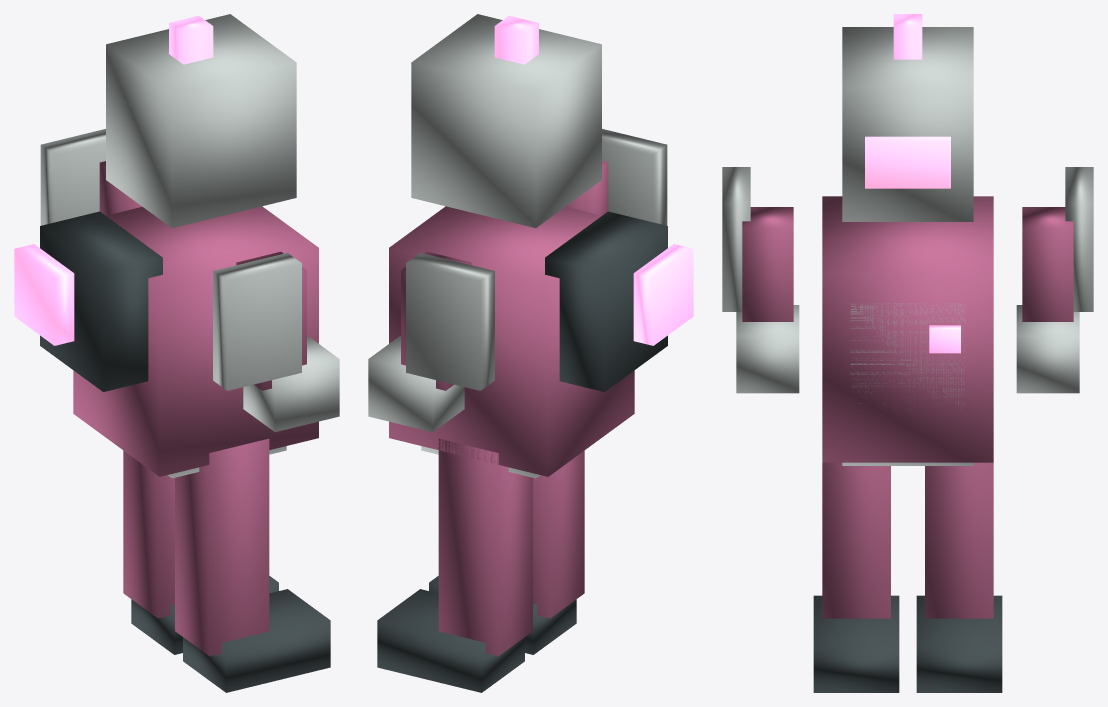
File: enemy-elite-lod1.glb
The picture shows the model from 3 angles, left to right: view 1: azimuth 30°, elevation 25°; view 2: azimuth 150°, elevation 25°; view 3: azimuth 270°, elevation 25°; orthographic projection.
Parts seen in each view (by area): view 1: helmet-shell, torso-suit, leg-left-shell, backpack-core, elite-fin-left, boot-left, leg-right-shell, gauntlet-left, elite-fin-right, backpack-glow, elite-crest, boot-right (+2 smaller); view 2: helmet-shell, torso-suit, leg-right-shell, backpack-core, elite-fin-right, boot-right, leg-left-shell, gauntlet-right, elite-fin-left, backpack-glow, elite-crest, boot-left (+2 smaller); view 3: torso-suit, helmet-shell, leg-left-shell, leg-right-shell, boot-left, boot-right, arm-left-upper, arm-right-upper, gauntlet-left, gauntlet-right, helmet-visor, elite-fin-left (+4 smaller).
Part boxes in pixels (x1,y1,x2,y2): helmet-shell: (106, 14, 296, 228); torso-suit: (73, 206, 318, 476); leg-left-shell: (175, 438, 269, 656); backpack-core: (40, 211, 162, 391); elite-fin-left: (213, 253, 301, 390); boot-left: (183, 589, 330, 692); leg-right-shell: (123, 450, 174, 618); gauntlet-left: (243, 336, 339, 432); elite-fin-right: (40, 129, 105, 225); backpack-glow: (14, 244, 74, 345); elite-crest: (169, 15, 213, 64); boot-right: (131, 576, 278, 654); helmet-shell: (411, 14, 601, 228); torso-suit: (389, 206, 634, 476); leg-right-shell: (438, 438, 532, 656); backpack-core: (545, 211, 667, 391); elite-fin-right: (406, 253, 494, 390); boot-right: (377, 589, 524, 692); leg-left-shell: (533, 450, 584, 618); gauntlet-right: (368, 336, 464, 432); elite-fin-left: (602, 129, 667, 225); backpack-glow: (633, 244, 693, 345); elite-crest: (494, 15, 538, 64); boot-left: (429, 576, 576, 654); torso-suit: (822, 196, 993, 462); helmet-shell: (842, 27, 973, 221); leg-left-shell: (822, 462, 890, 618); leg-right-shell: (925, 462, 993, 618); boot-left: (813, 595, 899, 692); boot-right: (916, 595, 1002, 692); arm-left-upper: (742, 207, 793, 321); arm-right-upper: (1022, 207, 1073, 321); gauntlet-left: (736, 305, 799, 393); gauntlet-right: (1016, 305, 1079, 393); helmet-visor: (865, 136, 950, 188); elite-fin-left: (722, 167, 750, 311).
Bounding box in the file's own units: 1.01 × 2.42 × 1.3.
